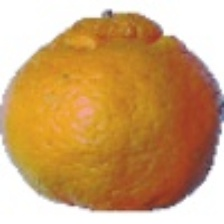tangerine: (32, 35, 177, 221)
